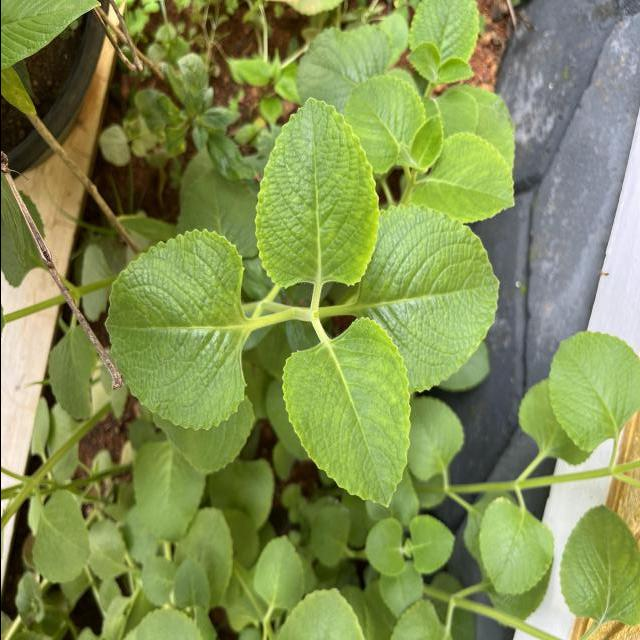Plectranthus barbatus: (102, 228, 248, 432), (279, 316, 411, 509), (252, 96, 380, 290), (379, 202, 501, 395), (546, 328, 640, 453), (557, 502, 640, 628), (410, 130, 516, 226), (342, 75, 426, 176), (477, 496, 554, 596), (131, 440, 206, 542), (30, 488, 91, 583), (252, 532, 305, 610), (407, 512, 456, 574), (362, 516, 405, 578)
